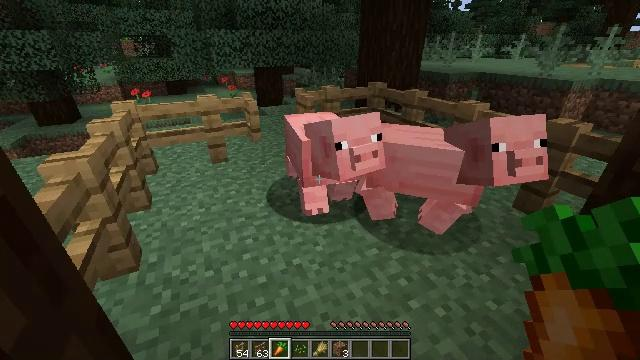pig: (385, 113, 550, 233), (283, 111, 385, 214)
